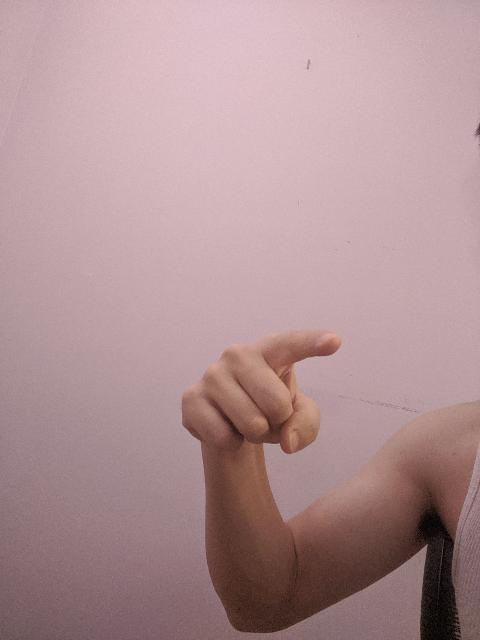Z: (177, 325, 346, 459)
